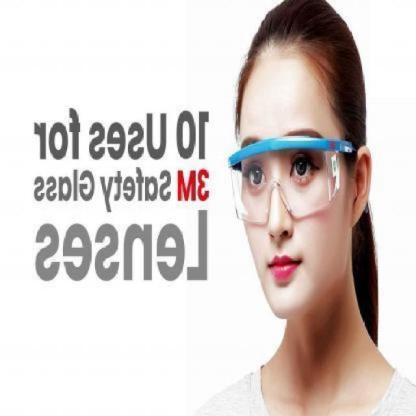oculos: (213, 132, 358, 228)
